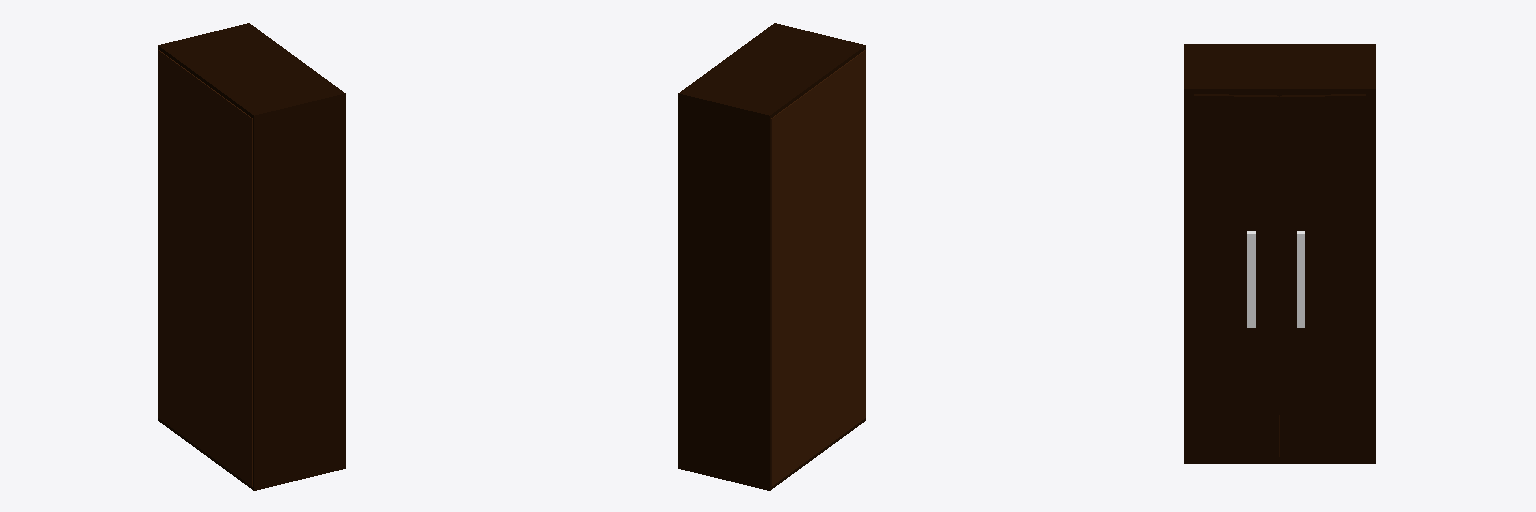
File: wardrobe.obj
3 views of the same model, side by side, from view 1: azimuth 30°, elevation 25°; view 2: azimuth 150°, elevation 25°; view 3: azimuth 270°, elevation 25° (orthographic).
Visible parts, largest first — view 1: Cube; view 2: Cube; view 3: Cube, Cube.002.
Boxes of the visible parts, box(x1,y1,x2,y2) form: Cube: box(158, 23, 345, 490); Cube: box(678, 23, 865, 490); Cube: box(1184, 44, 1375, 463); Cube.002: box(1247, 231, 1304, 327).
Size of the model in its own units: 0.5613 by 1.98 by 0.92.